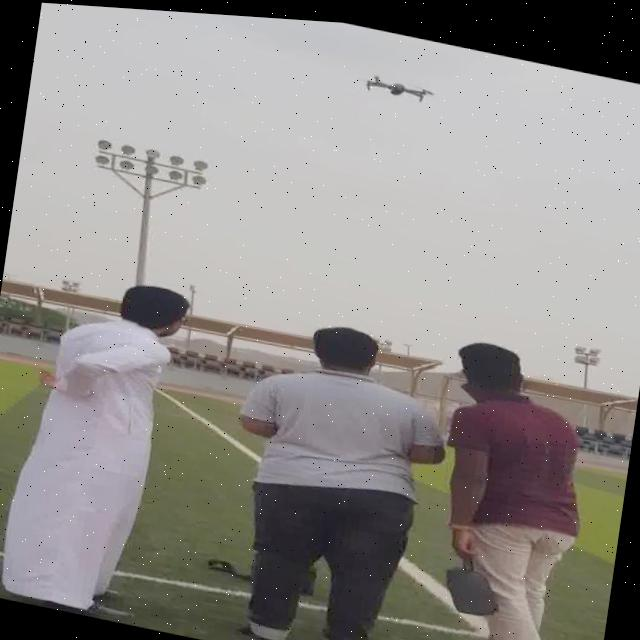drone: (357, 63, 440, 101)
